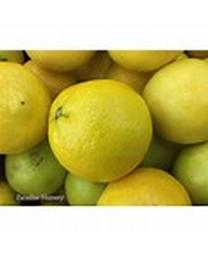lemon: (48, 81, 153, 184), (143, 58, 207, 145), (0, 62, 52, 157)
